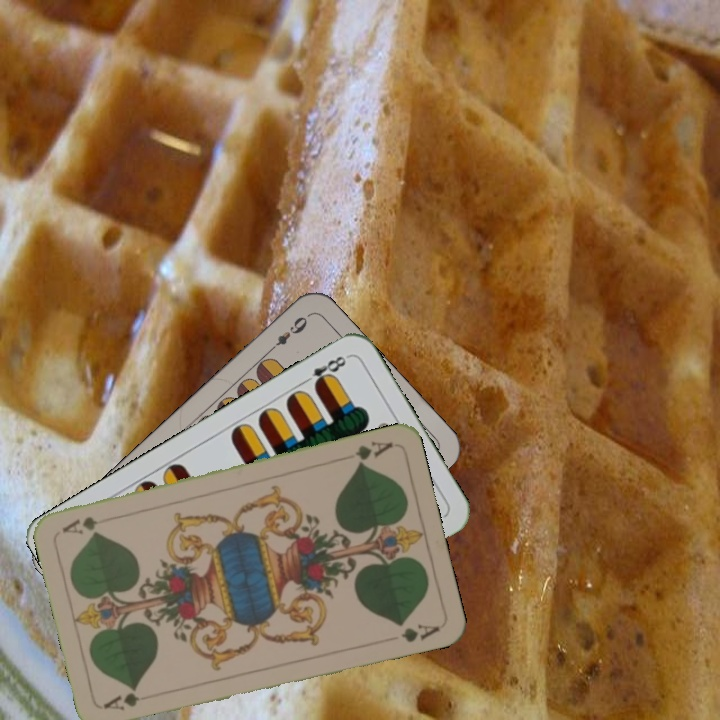E8: (298, 351, 352, 391)
E9: (264, 310, 312, 355)
GA: (351, 437, 396, 468), (100, 688, 142, 713)
